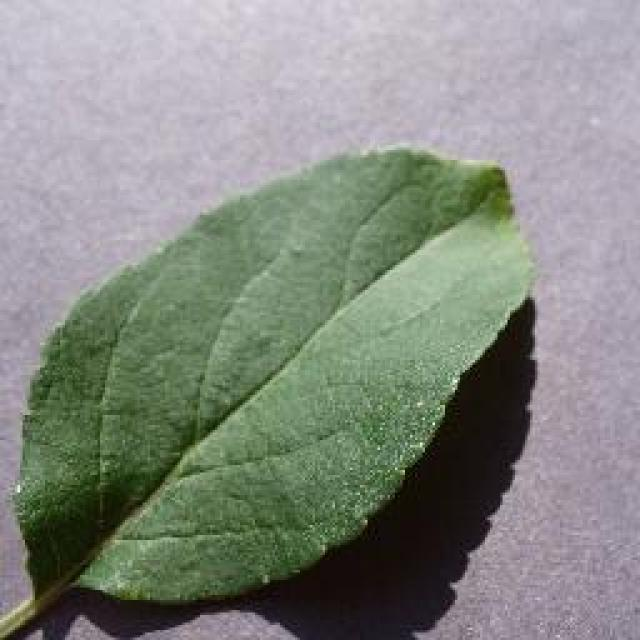apple healthy: (0, 140, 538, 638)
